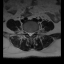CCS_normal: (29, 30, 31, 38)
LFS_normal: (33, 29, 35, 36)
LLS_normal: (31, 30, 33, 37)
RFS_normal: (26, 29, 28, 36)
RLS_normal: (28, 30, 29, 36)
